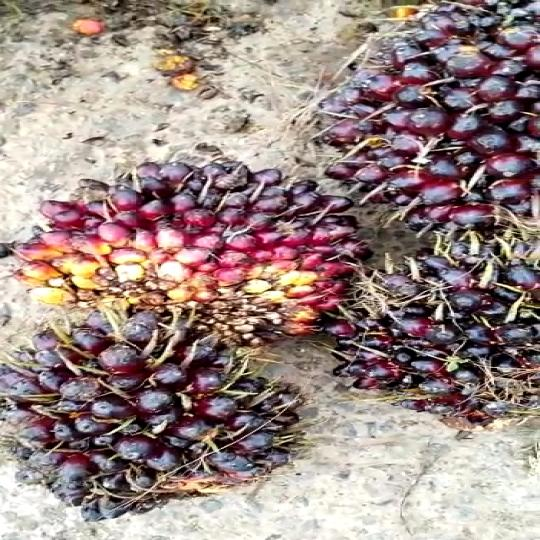kurang masak: (0, 326, 343, 505), (253, 0, 540, 208), (21, 161, 347, 327), (337, 250, 540, 427)
